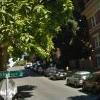Tree: (6, 0, 81, 63)
